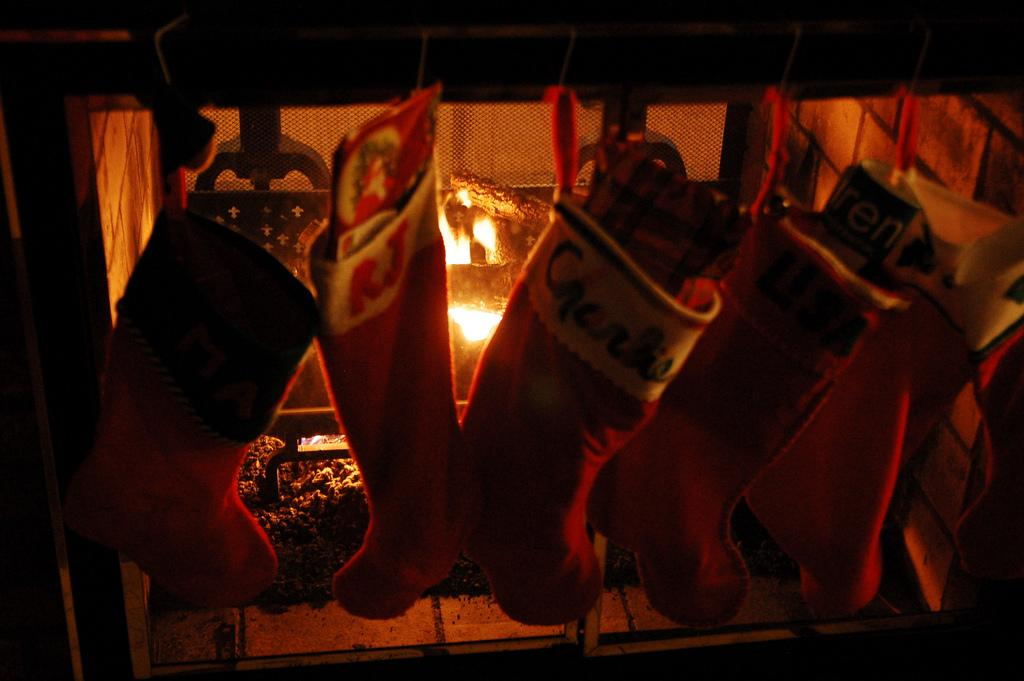fire: (443, 167, 508, 362)
